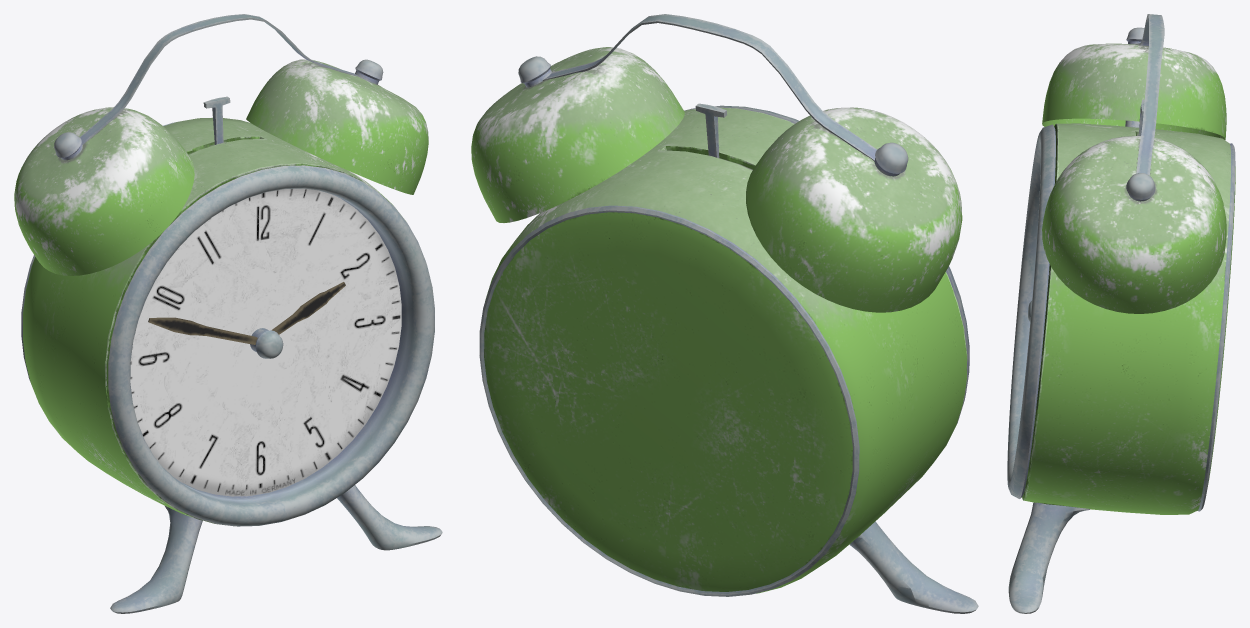
The model's file is reloj.obj.
3 views of the same model, side by side, from view 1: azimuth 30°, elevation 25°; view 2: azimuth 150°, elevation 25°; view 3: azimuth 270°, elevation 25° (orthographic). The views are drawn at different scales.
Parts seen in each view (by area): view 1: Mesh; view 2: Mesh; view 3: Mesh.
Boxes of the visible parts, x1,y1,x2,y2 form: Mesh: [14, 14, 442, 613]; Mesh: [471, 14, 978, 613]; Mesh: [1007, 14, 1235, 613].
Size of the model in its own units: 4.64 by 5.72 by 2.35.
1 material, 1 textured.
